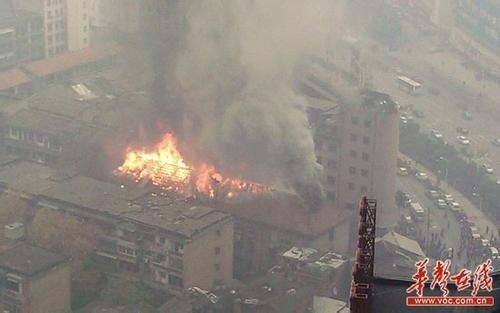fire: (116, 128, 275, 197)
